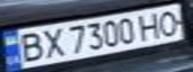0: (100, 17, 124, 47), (115, 15, 139, 44)
3: (84, 20, 106, 52)
7: (63, 21, 87, 54)
B: (12, 29, 48, 64)
H: (133, 10, 166, 40)
O: (151, 7, 187, 37)
X: (36, 25, 69, 60)
